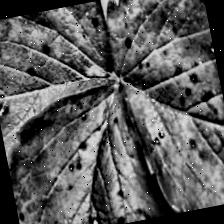Leaf Spot: (101, 0, 224, 220), (0, 76, 172, 224), (0, 0, 134, 186)
